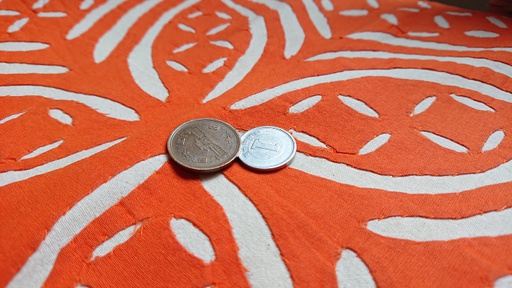10yen: (166, 118, 239, 174)
1yen: (235, 126, 295, 171)
